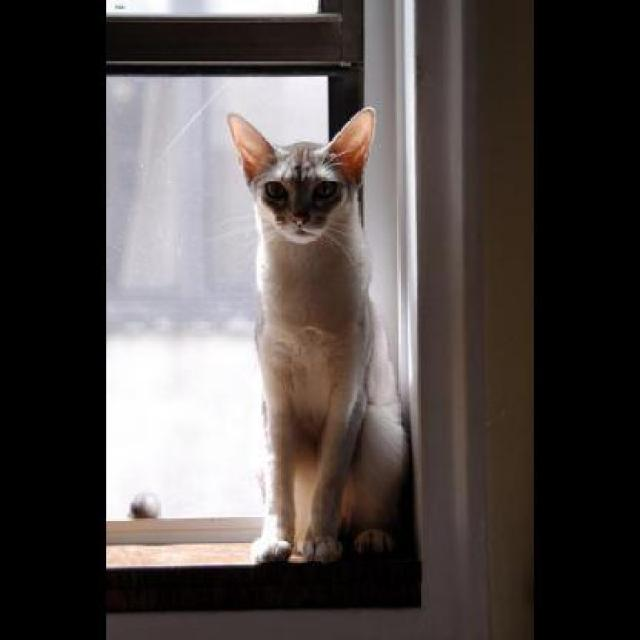unauthorized: (224, 105, 410, 566)
